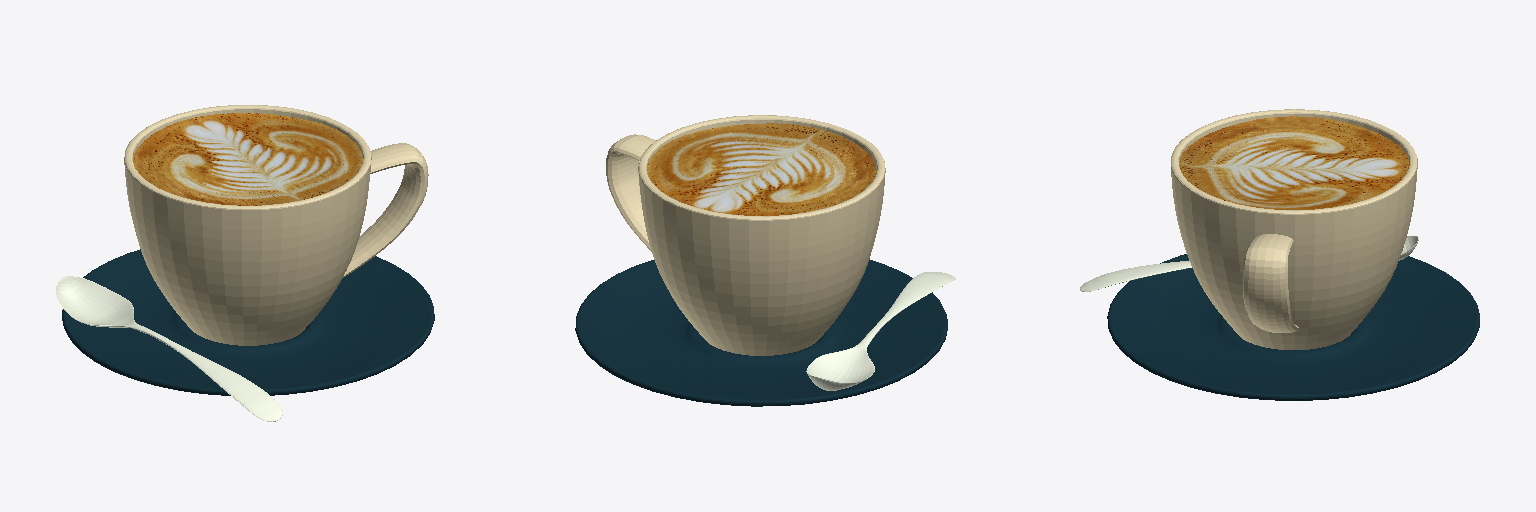
The picture shows the model from 3 angles: view 1: azimuth 30°, elevation 25°; view 2: azimuth 150°, elevation 25°; view 3: azimuth 270°, elevation 25°; orthographic projection.
Visible parts, largest first — view 1: cup, plate, cappuccino, spoon; view 2: cup, plate, cappuccino, spoon; view 3: cup, plate, cappuccino, spoon.
Part boxes in pixels (bbox=[...]): cup: bbox=[124, 105, 428, 345]; plate: bbox=[62, 249, 434, 395]; cappuccino: bbox=[133, 113, 362, 205]; spoon: bbox=[55, 276, 282, 421]; cup: bbox=[606, 115, 885, 355]; plate: bbox=[575, 259, 947, 406]; cappuccino: bbox=[647, 123, 876, 215]; spoon: bbox=[806, 272, 955, 390]; cup: bbox=[1171, 109, 1417, 349]; plate: bbox=[1107, 254, 1479, 400]; cappuccino: bbox=[1179, 116, 1408, 209]; spoon: bbox=[1080, 236, 1418, 291].
Bounding box in the file's own units: 3.93 × 2.2 × 4.21.
Materials: 4 (1 with a texture image).